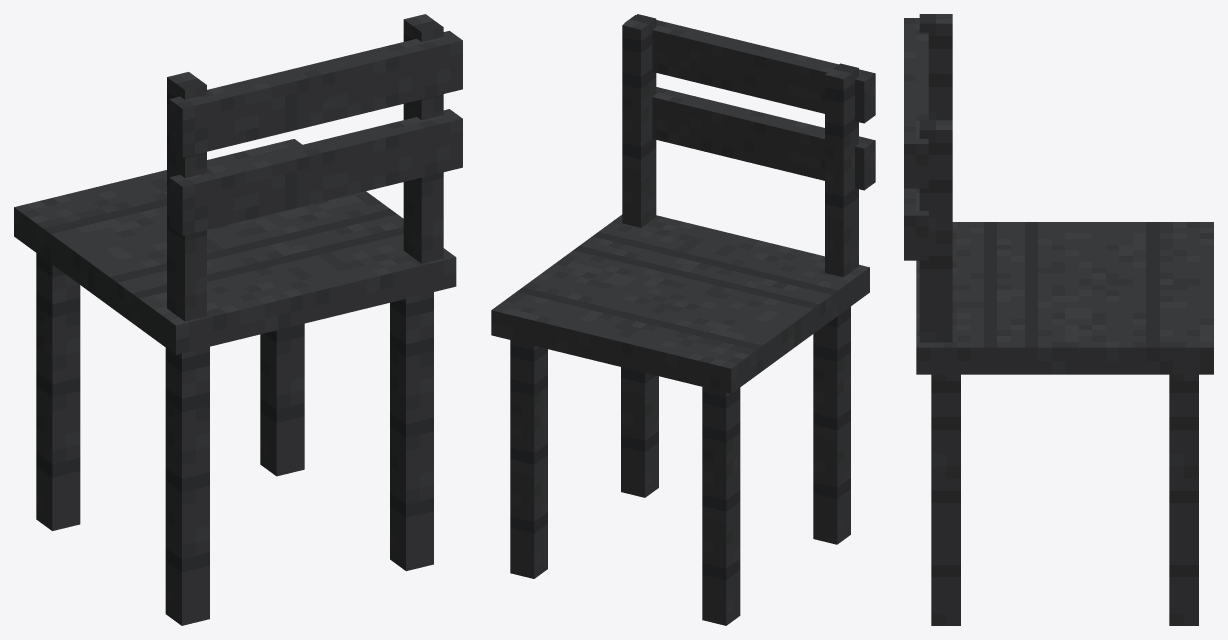
The model's file is f_chair_black.glb.
3 views of the same model, side by side, from view 1: azimuth 30°, elevation 25°; view 2: azimuth 150°, elevation 25°; view 3: azimuth 270°, elevation 25° (orthographic). The views are drawn at different scales.
Visible parts, largest first — view 1: block_seat, block_back-slat-0.19, block_back-slat-0.31, block_leg--0.18-0.18, block_leg-0.18-0.18, block_leg--0.18--0.18, block_leg-0.18--0.18, block_upright--0.19, block_upright-0.19; view 2: block_seat, block_back-slat-0.31, block_back-slat-0.19, block_leg--0.18--0.18, block_leg-0.18--0.18, block_leg--0.18-0.18, block_upright-0.19, block_upright--0.19, block_leg-0.18-0.18; view 3: block_seat, block_leg-0.18--0.18, block_leg-0.18-0.18, block_upright-0.19, block_back-slat-0.31, block_upright--0.19, block_back-slat-0.19.
Boxes of the visible parts, left/top/right/bottom form: block_seat: left=14, top=139, right=456, bottom=354; block_back-slat-0.19: left=169, top=109, right=462, bottom=235; block_back-slat-0.31: left=169, top=31, right=462, bottom=157; block_leg--0.18-0.18: left=165, top=346, right=209, bottom=625; block_leg-0.18-0.18: left=390, top=292, right=433, bottom=571; block_leg--0.18--0.18: left=36, top=253, right=80, bottom=530; block_leg-0.18--0.18: left=260, top=323, right=304, bottom=476; block_upright--0.19: left=167, top=72, right=206, bottom=321; block_upright-0.19: left=403, top=14, right=443, bottom=263; block_seat: left=491, top=214, right=869, bottom=393; block_back-slat-0.31: left=624, top=15, right=875, bottom=123; block_back-slat-0.19: left=652, top=87, right=875, bottom=190; block_leg--0.18--0.18: left=702, top=387, right=740, bottom=625; block_leg-0.18--0.18: left=510, top=340, right=547, bottom=578; block_leg--0.18-0.18: left=813, top=306, right=850, bottom=544; block_upright-0.19: left=622, top=14, right=656, bottom=227; block_upright--0.19: left=825, top=63, right=858, bottom=277; block_leg-0.18-0.18: left=621, top=367, right=658, bottom=497; block_seat: left=916, top=222, right=1213, bottom=374; block_leg-0.18--0.18: left=1169, top=374, right=1198, bottom=625; block_leg-0.18-0.18: left=931, top=374, right=960, bottom=625; block_upright-0.19: left=919, top=120, right=952, bottom=342; block_back-slat-0.31: left=904, top=18, right=928, bottom=188; block_upright--0.19: left=919, top=14, right=952, bottom=120; block_back-slat-0.19: left=904, top=188, right=928, bottom=260.
Bounding box in the file's own units: 0.45 × 0.83 × 0.4685.
Materials: 1 (1 with a texture image).
